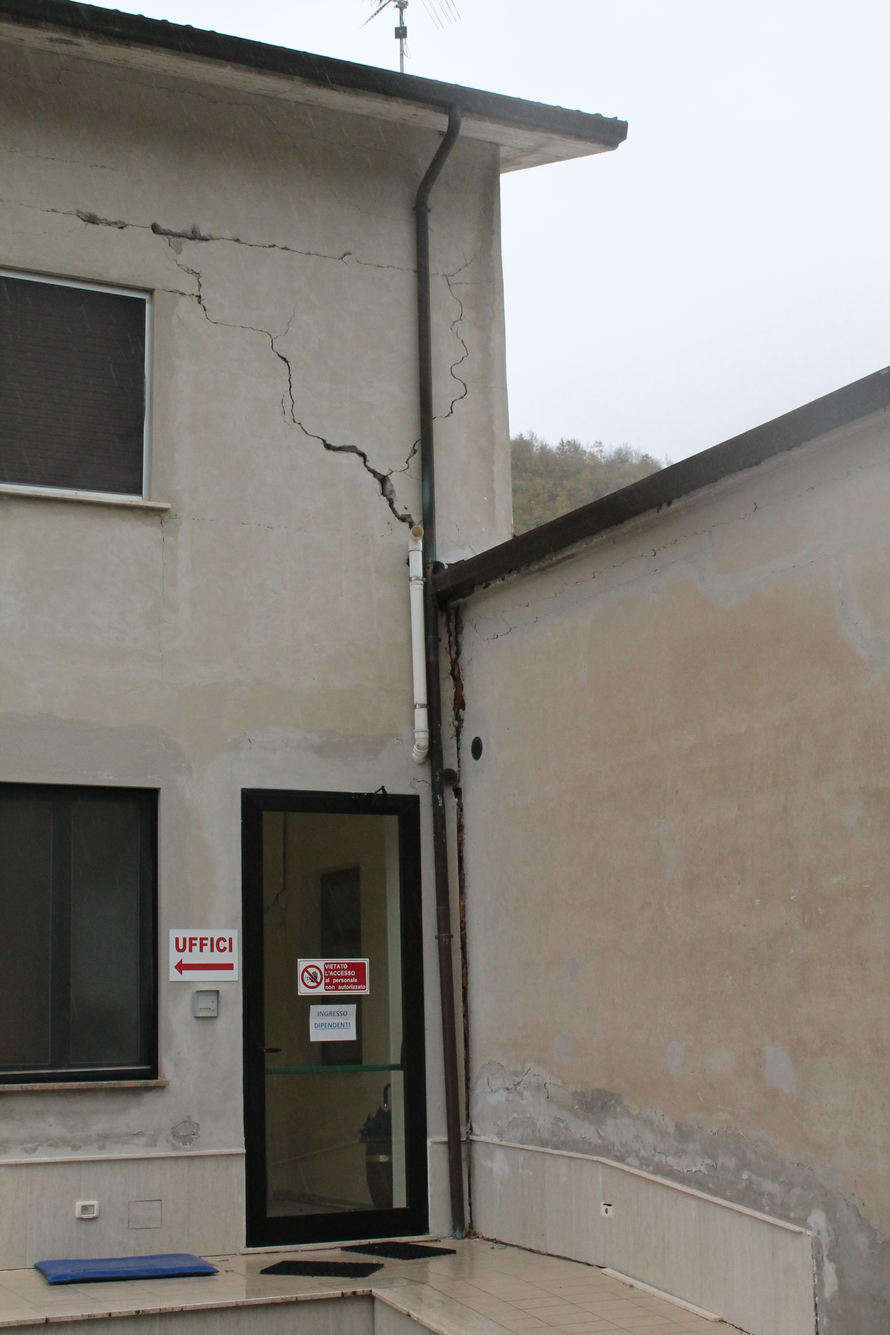Crack: (10, 60, 492, 261), (475, 455, 887, 649), (159, 251, 423, 541), (3, 188, 499, 290), (386, 290, 481, 485), (172, 502, 396, 550), (436, 600, 473, 765), (149, 507, 177, 707), (7, 135, 130, 176)
